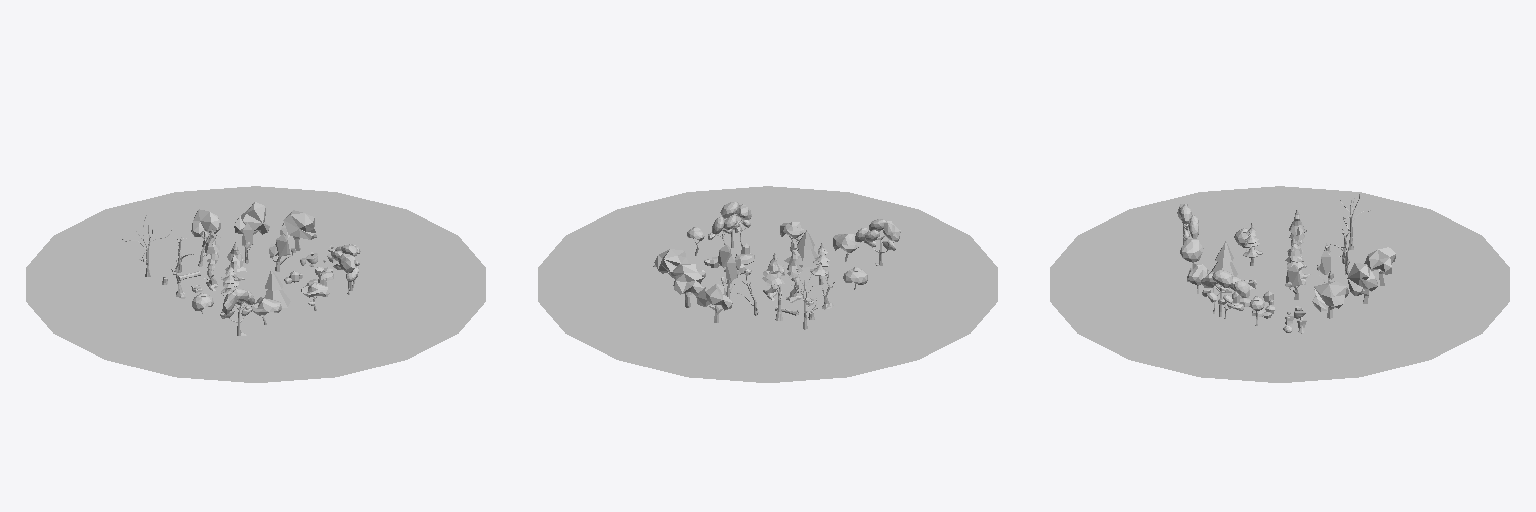
File: LOW POLY FULL 03.obj
The picture shows the model from 3 angles: view 1: azimuth 30°, elevation 25°; view 2: azimuth 150°, elevation 25°; view 3: azimuth 270°, elevation 25°; orthographic projection.
Visible parts, largest first — view 1: Cylinder001, Object007, skp7EEA_001, skpEFB7_001, Object006, tree_01, Object008; view 2: Cylinder001, skpEFB7_001, skp7EEA_001, Object006, FatTree, tree_01, Object008, Object007; view 3: Cylinder001, skpEFB7_001, Object007, Object006, Object008.
Boxes of the visible parts, box(x1,y1,x2,y2) form: Cylinder001: box(26, 186, 485, 382); Object007: box(280, 210, 316, 239); skp7EEA_001: box(220, 288, 254, 335); skpEFB7_001: box(331, 245, 359, 294); Object006: box(234, 202, 269, 234); tree_01: box(122, 215, 220, 284); Object008: box(191, 209, 220, 236); Cylinder001: box(538, 186, 997, 382); skpEFB7_001: box(708, 202, 751, 247); skp7EEA_001: box(855, 219, 900, 265); Object006: box(672, 264, 705, 295); FatTree: box(667, 265, 823, 322); tree_01: box(737, 272, 818, 329); Object008: box(696, 284, 732, 310); Object007: box(654, 249, 688, 275); Cylinder001: box(1050, 186, 1509, 382); skpEFB7_001: box(1201, 270, 1249, 318); Object007: box(1312, 281, 1348, 311); Object006: box(1347, 263, 1377, 295); Object008: box(1364, 247, 1395, 274).
Bounding box in the file's own units: 92.4 × 13.53 × 90.99.